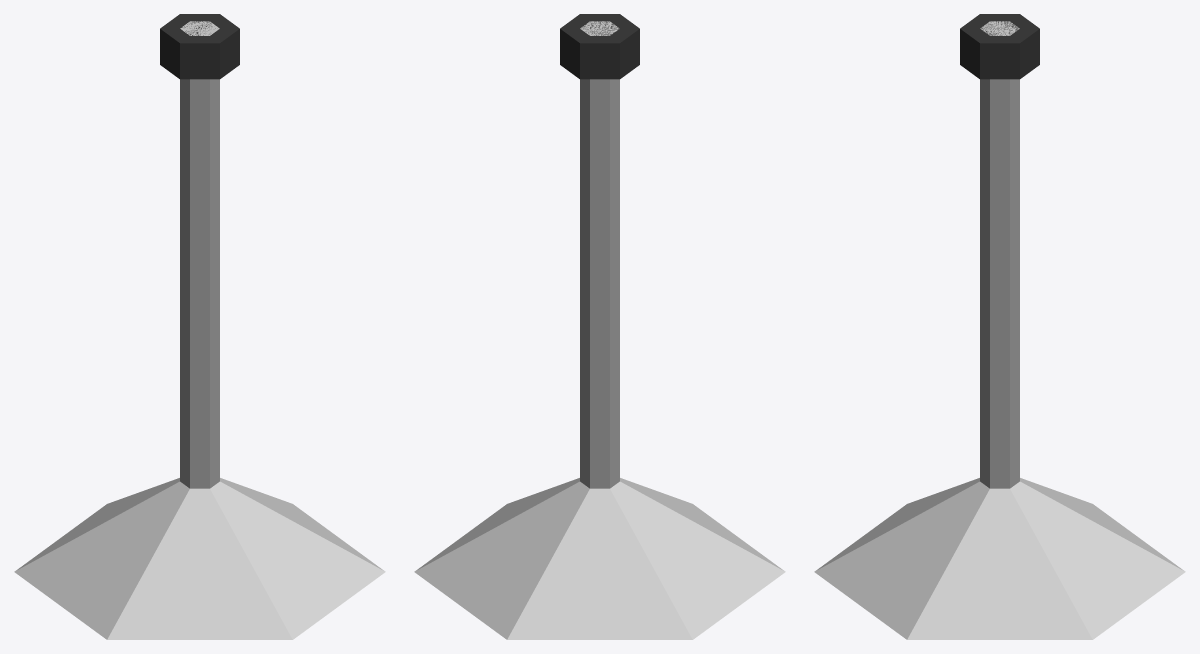
Rendered from h_ceilingLight2.fbx.
The picture shows the model from 3 angles, left to right: view 1: azimuth 30°, elevation 25°; view 2: azimuth 150°, elevation 25°; view 3: azimuth 270°, elevation 25°; orthographic projection.
Parts seen in each view (by area): view 1: Cylinder.002; view 2: Cylinder.002; view 3: Cylinder.002.
Boxes of the visible parts, left/top/right/bottom form: Cylinder.002: left=14, top=14, right=385, bottom=639; Cylinder.002: left=414, top=14, right=785, bottom=639; Cylinder.002: left=814, top=14, right=1185, bottom=639.
Size of the model in its own units: 32.22 by 60 by 37.2.
